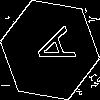A: (25, 25, 76, 73)
